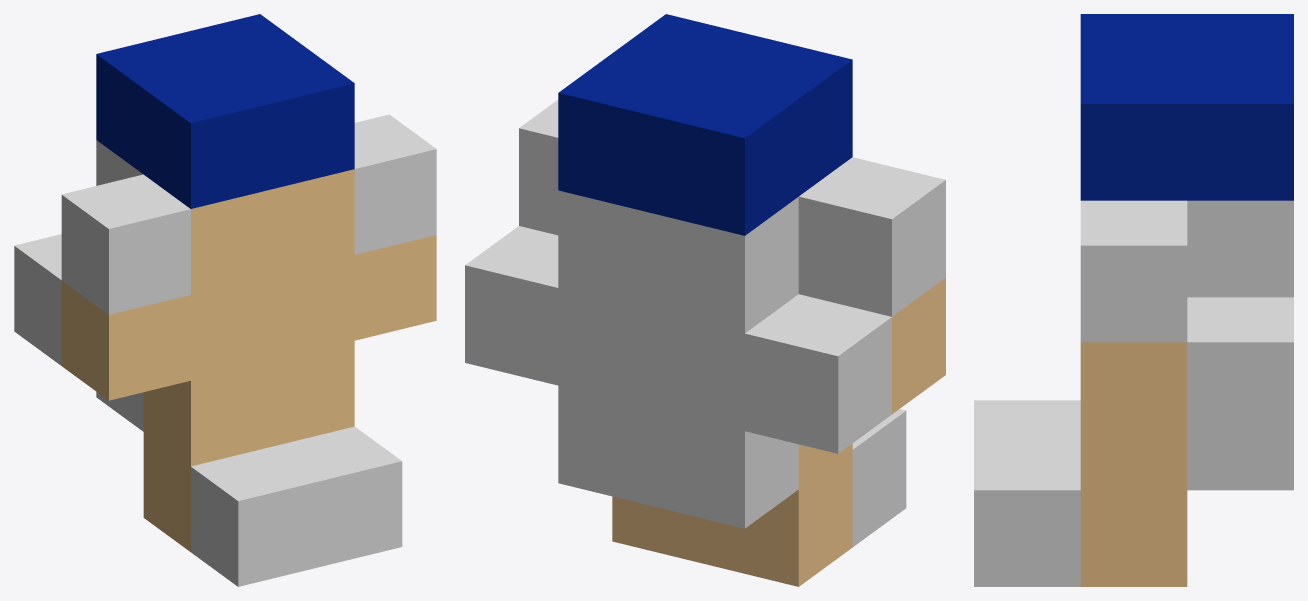
Rendered from scummBarPirate04_head.obj.
3 views of the same model, side by side, from view 1: azimuth 30°, elevation 25°; view 2: azimuth 150°, elevation 25°; view 3: azimuth 270°, elevation 25° (orthographic). The views are drawn at different scales.
Bounding box in the file's own units: 4 × 5 × 3.
1 material, 1 textured.
